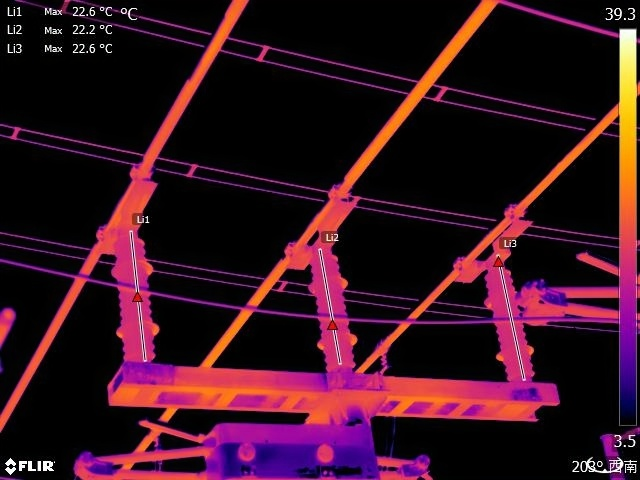post insulator: (108, 232, 165, 358), (484, 265, 539, 387), (311, 244, 358, 367)
switch: (65, 409, 459, 480), (521, 239, 640, 355)
